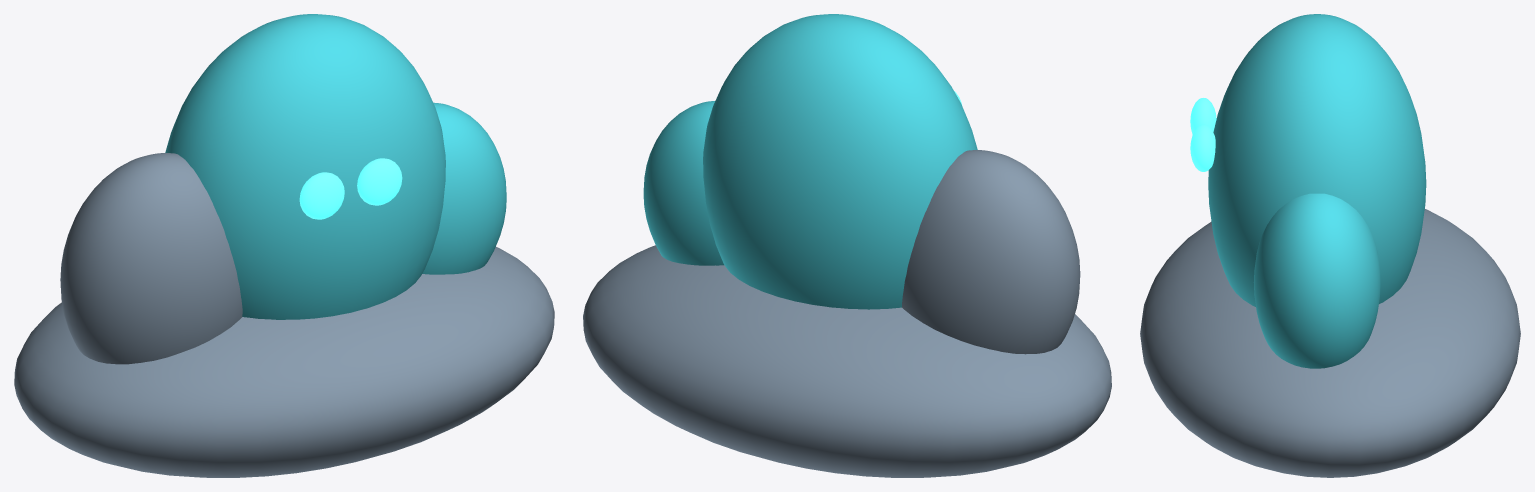
File: ooze_v2.glb
3 renders of one model, left to right at view 1: azimuth 30°, elevation 25°; view 2: azimuth 150°, elevation 25°; view 3: azimuth 270°, elevation 25°, orthographic. The views are drawn at different scales.
Parts seen in each view (by area): view 1: PUDDLE_PRIMARY, SLIME_LOBE_ACCENT, SLIME_LOBE_PRIMARY, SLIME_LOBE_ACCENT.001, EYE_EMISSIVE, EYE_EMISSIVE.001; view 2: PUDDLE_PRIMARY, SLIME_LOBE_ACCENT, SLIME_LOBE_PRIMARY, SLIME_LOBE_ACCENT.001; view 3: PUDDLE_PRIMARY, SLIME_LOBE_ACCENT, SLIME_LOBE_ACCENT.001, EYE_EMISSIVE.001, EYE_EMISSIVE.
Boxes of the visible parts, x1,y1,x2,y2 form: PUDDLE_PRIMARY: (14,247,554,477); SLIME_LOBE_ACCENT: (165,14,445,319); SLIME_LOBE_PRIMARY: (60,153,242,364); SLIME_LOBE_ACCENT.001: (422,102,506,274); EYE_EMISSIVE: (299,172,344,219); EYE_EMISSIVE.001: (357,158,402,205); PUDDLE_PRIMARY: (583,245,1111,477); SLIME_LOBE_ACCENT: (703,14,977,309); SLIME_LOBE_PRIMARY: (902,150,1080,354); SLIME_LOBE_ACCENT.001: (643,101,723,265); PUDDLE_PRIMARY: (1140,209,1520,477); SLIME_LOBE_ACCENT: (1208,14,1426,306); SLIME_LOBE_ACCENT.001: (1253,193,1380,368); EYE_EMISSIVE.001: (1190,124,1215,171); EYE_EMISSIVE: (1190,98,1216,134).
Bounding box in the file's own units: 2.1 × 1.66 × 1.44.
